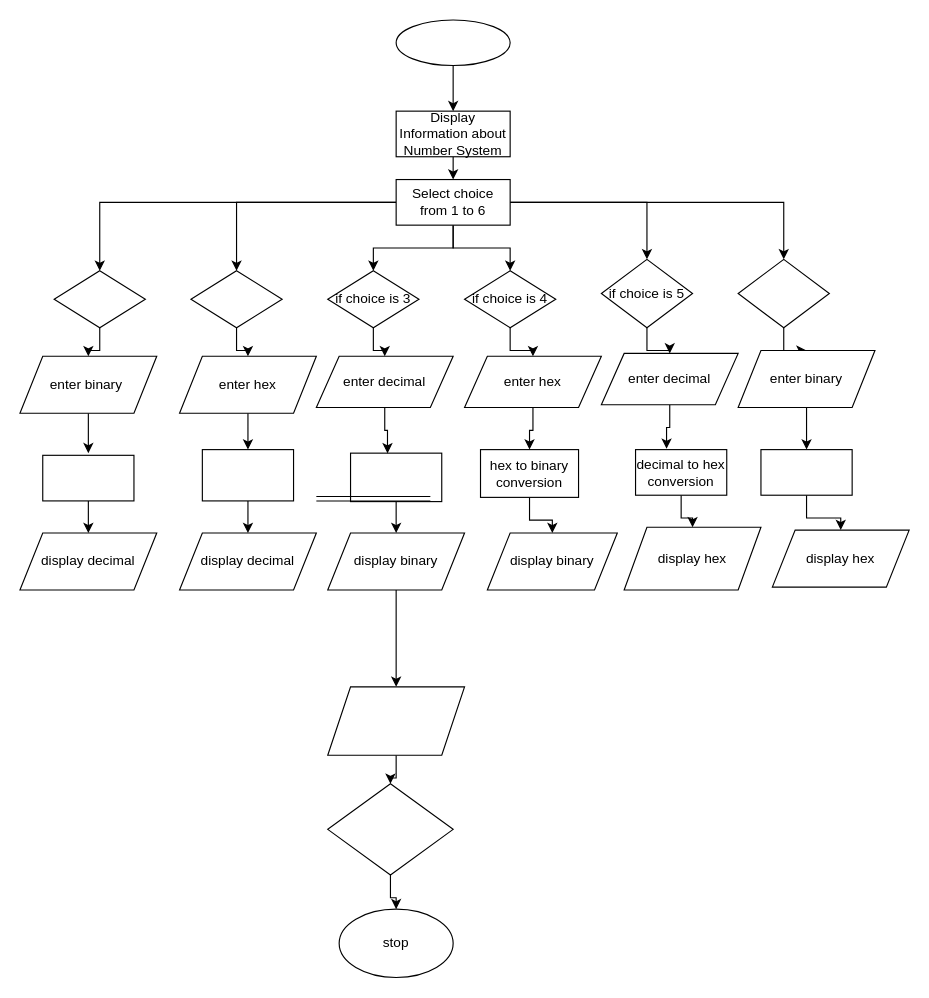
This 929x998 diagram has some shape labels left out. Here are the shapes that lost their labels. From the top down, the box of each, then its label:
(395, 19, 510, 66): Start
(53, 270, 145, 328): if choice is 1
(190, 270, 282, 328): if choice is 2
(737, 258, 829, 328): if choice is 6
(42, 454, 134, 501): Binary to decimal conversion
(201, 448, 294, 501): hex to decimal conversion
(349, 452, 442, 502): decimal to binary conversion
(760, 448, 852, 495): binary to hex conversion
(327, 686, 465, 755): enter 0 to stop
(327, 783, 453, 875): if user enters 0
